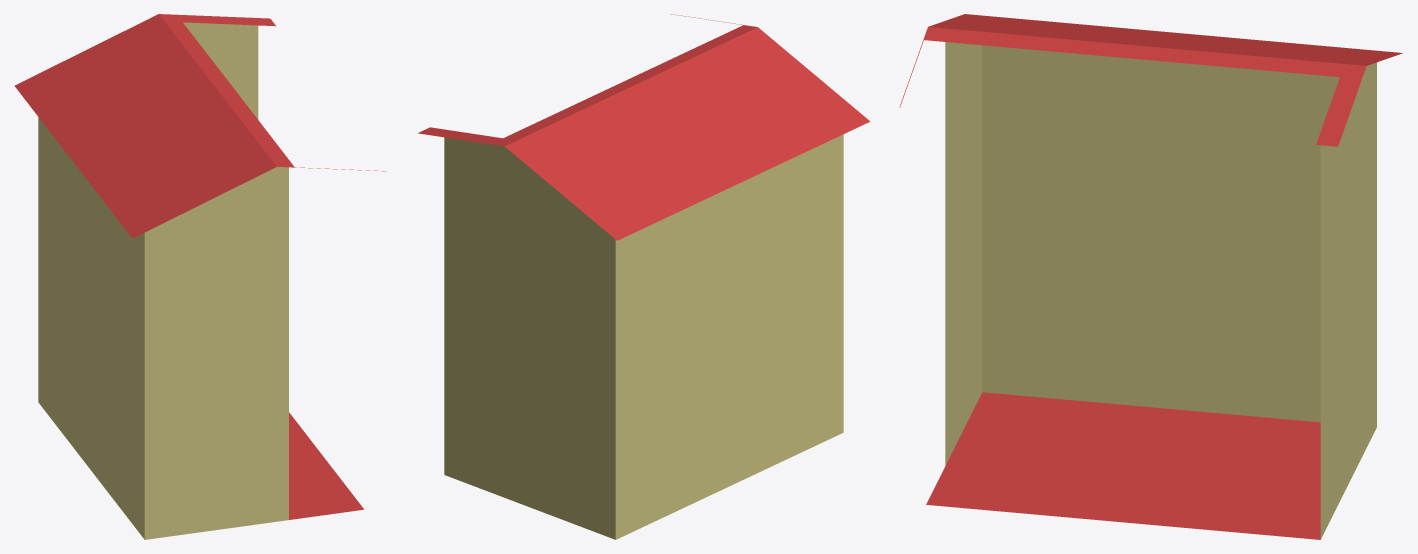
3 views of the same model, side by side, from view 1: azimuth 30°, elevation 25°; view 2: azimuth 150°, elevation 25°; view 3: azimuth 270°, elevation 25° (orthographic). The views are drawn at different scales.
Size of the model in its own units: 8.93 by 11.18 by 10.47.
